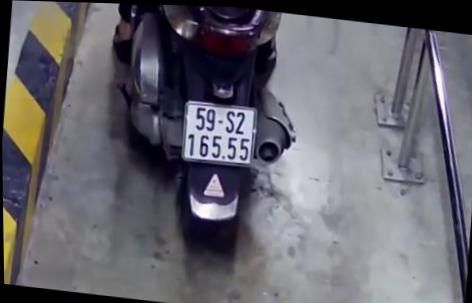LP: (178, 97, 260, 169)
